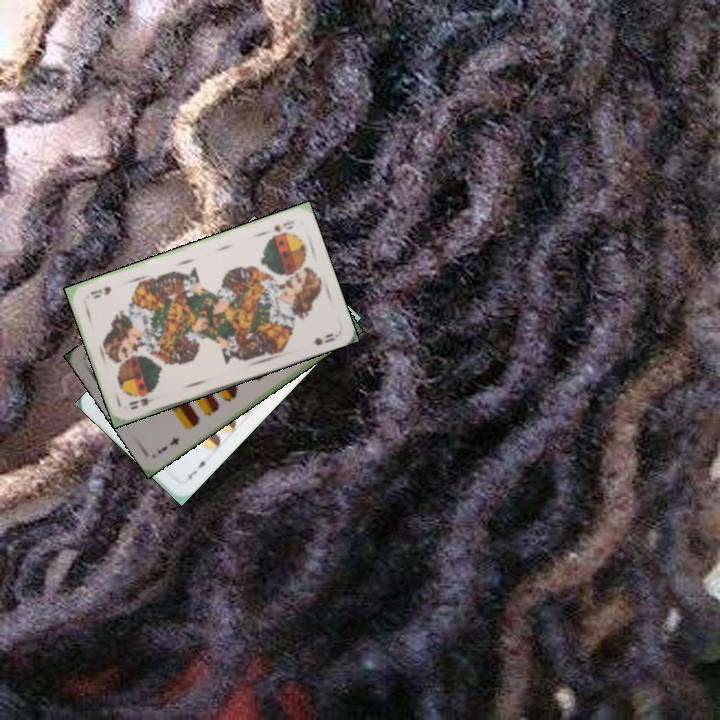E7: (184, 455, 212, 482), (153, 433, 182, 457)
SO: (125, 392, 162, 412), (260, 216, 297, 235)
